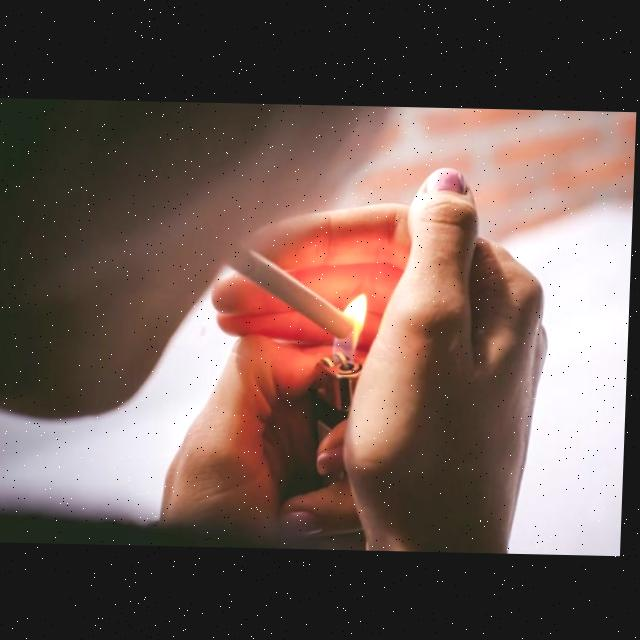cigarette: (223, 241, 359, 337)
